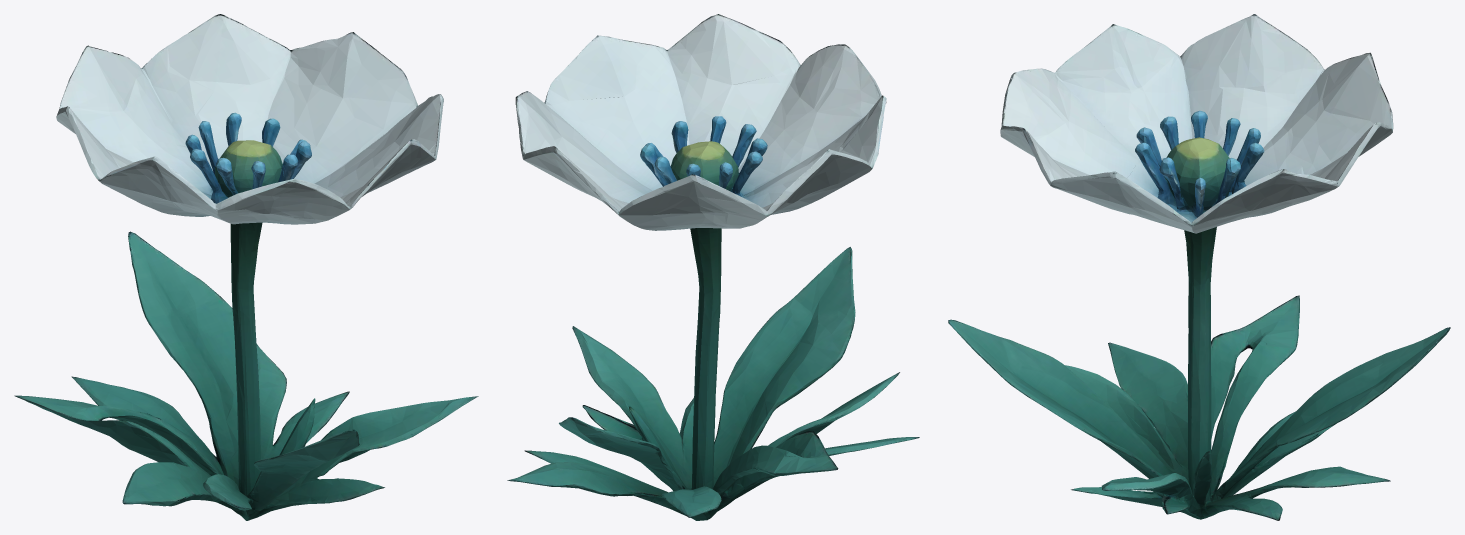
File: arctic_poppy.glb
3 renders of one model, left to right at view 1: azimuth 30°, elevation 25°; view 2: azimuth 150°, elevation 25°; view 3: azimuth 270°, elevation 25°, orthographic.
Visible parts, largest first — view 1: world; view 2: world; view 3: world.
Boxes of the visible parts, x1,y1,x2,y2 form: world: [14, 14, 478, 520]; world: [507, 14, 919, 520]; world: [948, 14, 1450, 520].
Size of the model in its own units: 0.8317 by 0.9356 by 0.9957.
1 material, 1 textured.
